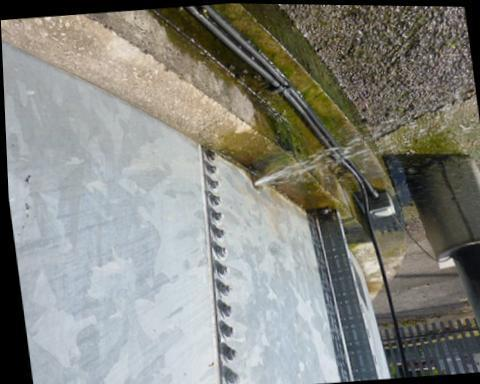pipe burst: (248, 99, 452, 191)
